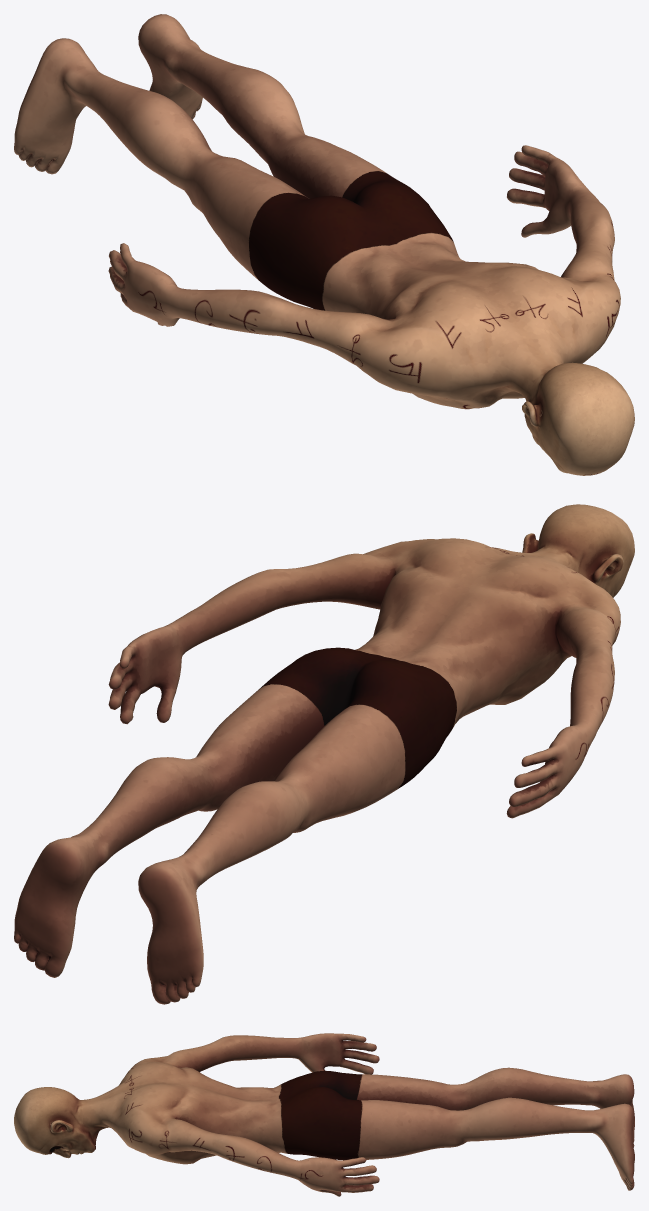
File: Character_Lp.fbx
3 views of the same model, one above another, from view 1: azimuth 30°, elevation 25°; view 2: azimuth 150°, elevation 25°; view 3: azimuth 270°, elevation 25° (orthographic). The views are drawn at different scales.
Visible parts, largest first — view 1: SM_Base Character, SM_Base Character.003; view 2: SM_Base Character, SM_Base Character.003; view 3: SM_Base Character, SM_Base Character.003.
Boxes of the visible parts, box(x1,y1,x2,y2) form: SM_Base Character: box(14, 14, 620, 409); SM_Base Character.003: box(522, 362, 634, 475); SM_Base Character: box(14, 538, 620, 1004); SM_Base Character.003: box(522, 504, 634, 597); SM_Base Character: box(82, 1033, 634, 1196); SM_Base Character.003: box(14, 1087, 96, 1158).
Bounding box in the file's own units: 87.36 × 29.9 × 174.
Materials: 2 (2 with a texture image).
